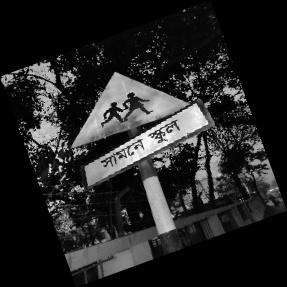School-in-front: (72, 71, 212, 189)
